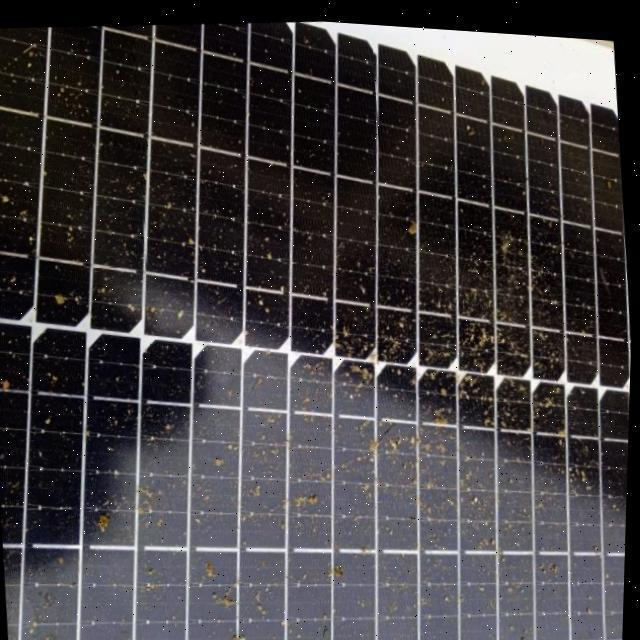Anomaly Solar Panel: (0, 22, 555, 640)
Surface Contaminant: (0, 49, 542, 640)
